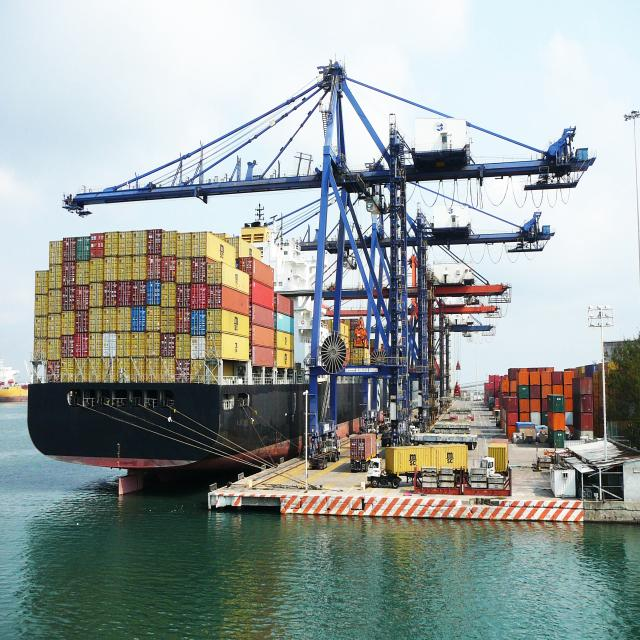cargoship: (28, 197, 360, 482)
